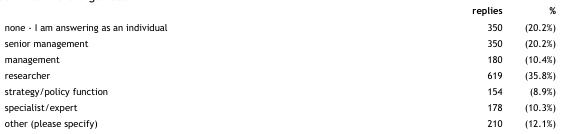table: (3, 4, 554, 128)
table column: (3, 4, 318, 128), (318, 4, 512, 128), (512, 4, 554, 128)
table column header: (3, 4, 554, 18)
table row: (3, 18, 554, 34), (3, 34, 554, 50), (3, 50, 554, 66), (3, 66, 554, 82), (3, 82, 554, 98), (3, 98, 554, 114), (3, 4, 554, 18), (3, 114, 554, 128)
